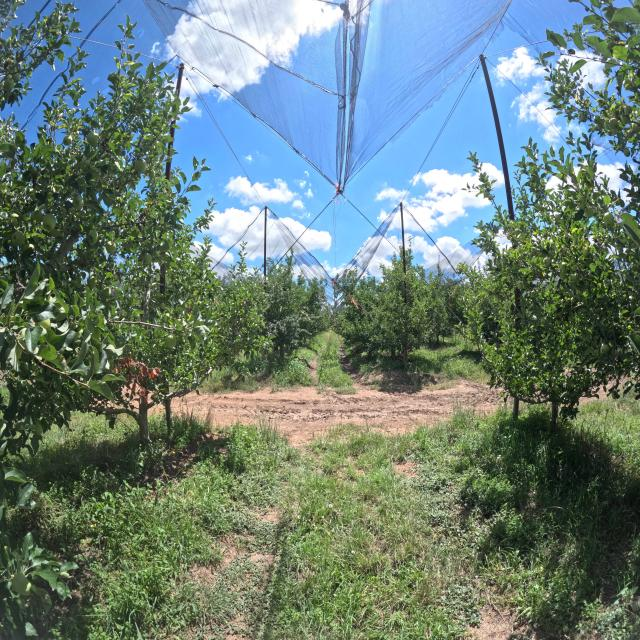-FireBlight-: (114, 354, 161, 405)
